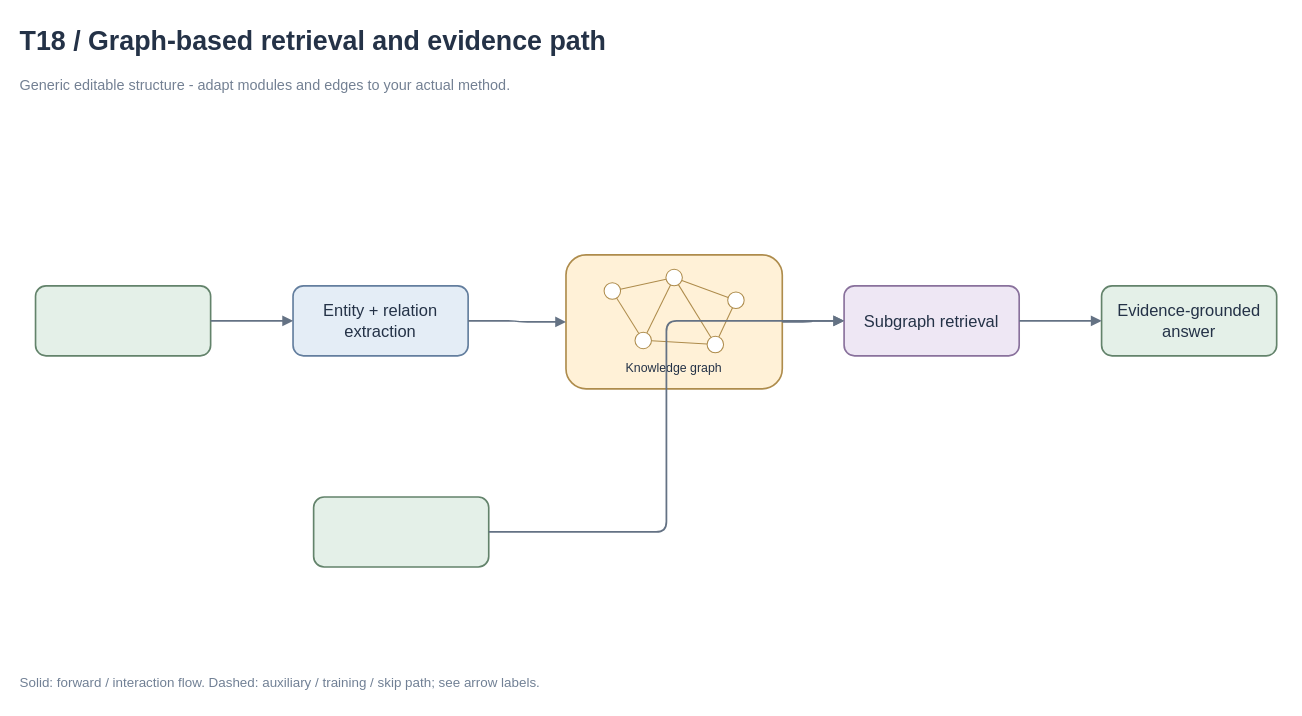
The diagram is 1302 pixels wide and 716 high, and some of its shapes have lost their labels. The shapes that lost their labels are listed below. From the top down, each one's box as (x1, y1, x2, y2) in pixels, then its label:
(34, 284, 211, 356): Corpus
(312, 496, 489, 567): Question
